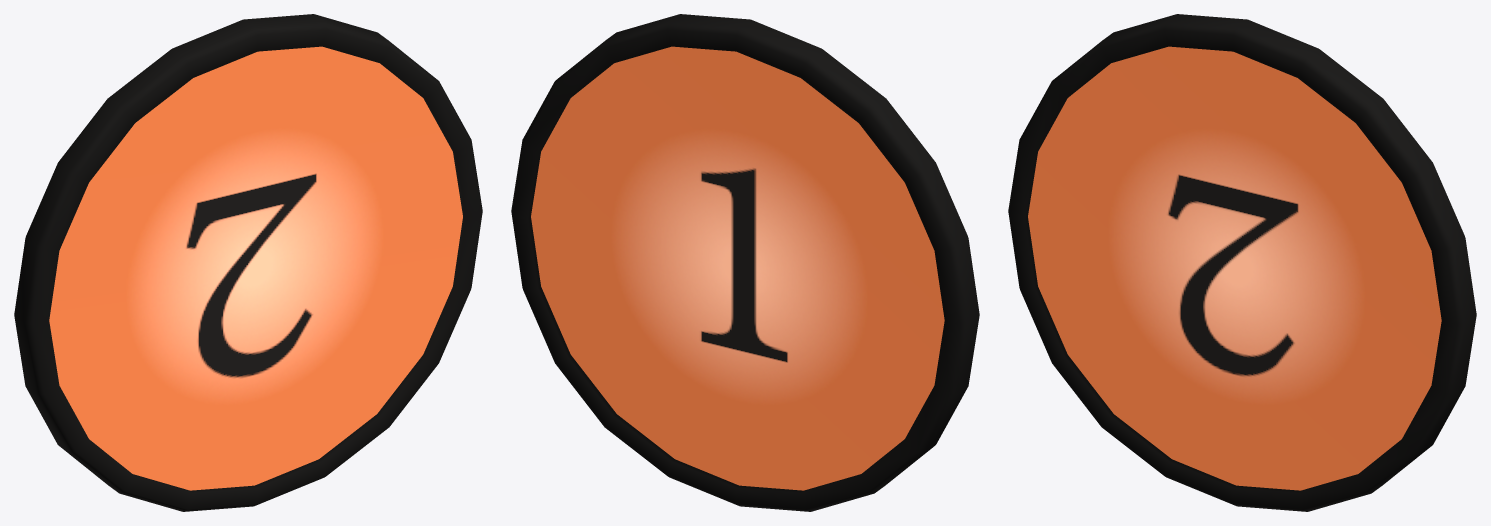
File: crucible_d2.glb
The picture shows the model from 3 angles, left to right: view 1: azimuth 30°, elevation 25°; view 2: azimuth 150°, elevation 25°; view 3: azimuth 330°, elevation 25°; orthographic projection.
Parts seen in each view (by area): view 1: Mesh_0; view 2: Mesh_0; view 3: Mesh_0.
Part boxes in pixels (box(x1,y1,x2,y2)): Mesh_0: box(14, 14, 482, 511); Mesh_0: box(511, 14, 979, 511); Mesh_0: box(1008, 14, 1476, 511).
Bounding box in the file's own units: 195 × 195 × 13.66.
1 material, 1 textured.
